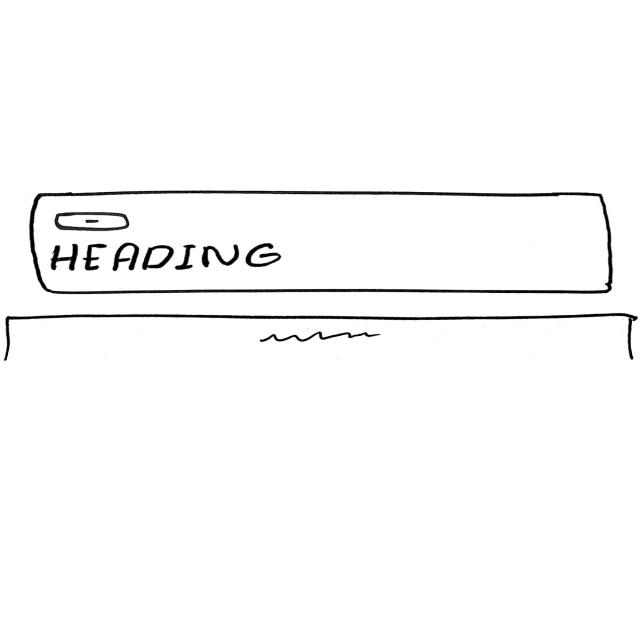container: (29, 190, 617, 297)
icon-button: (53, 211, 133, 233)
label: (48, 241, 283, 275)
text: (260, 331, 382, 346)
